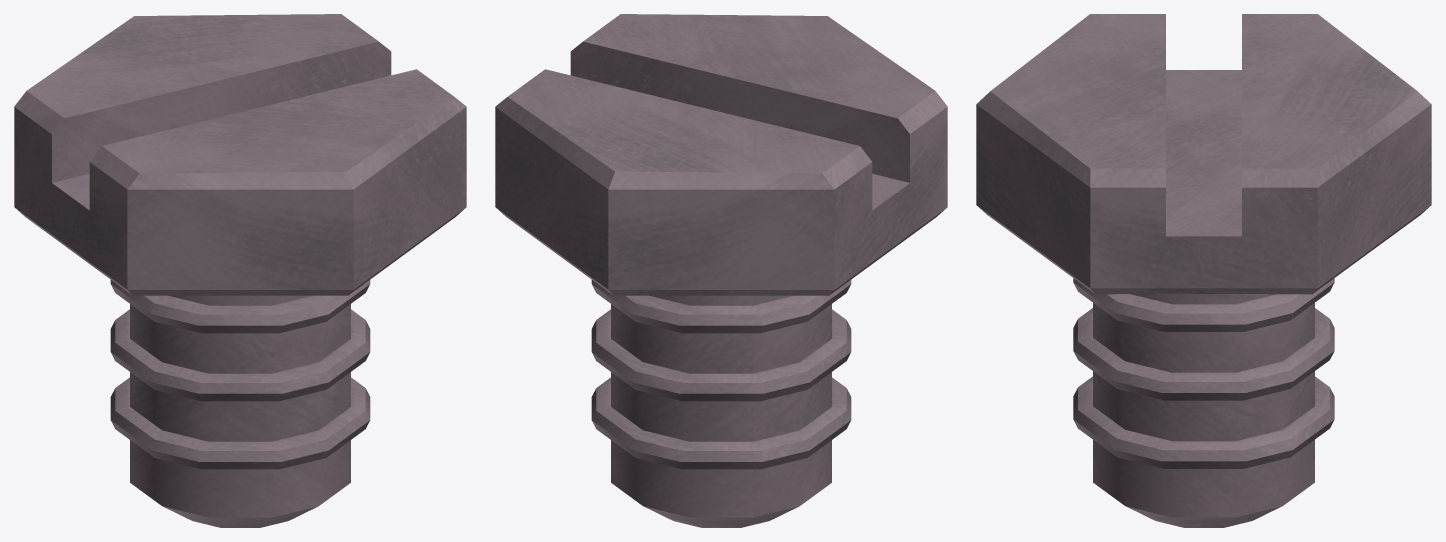
File: Screw Debris.fbx
3 renders of one model, left to right at view 1: azimuth 30°, elevation 25°; view 2: azimuth 150°, elevation 25°; view 3: azimuth 270°, elevation 25°, orthographic.
Parts seen in each view (by area): view 1: Screw; view 2: Screw; view 3: Screw.
Part boxes in pixels (bbox=[...]): Screw: bbox=[14, 14, 466, 527]; Screw: bbox=[495, 14, 947, 527]; Screw: bbox=[976, 14, 1431, 527].
Bounding box in the file's own units: 43.3 × 49.47 × 50.
